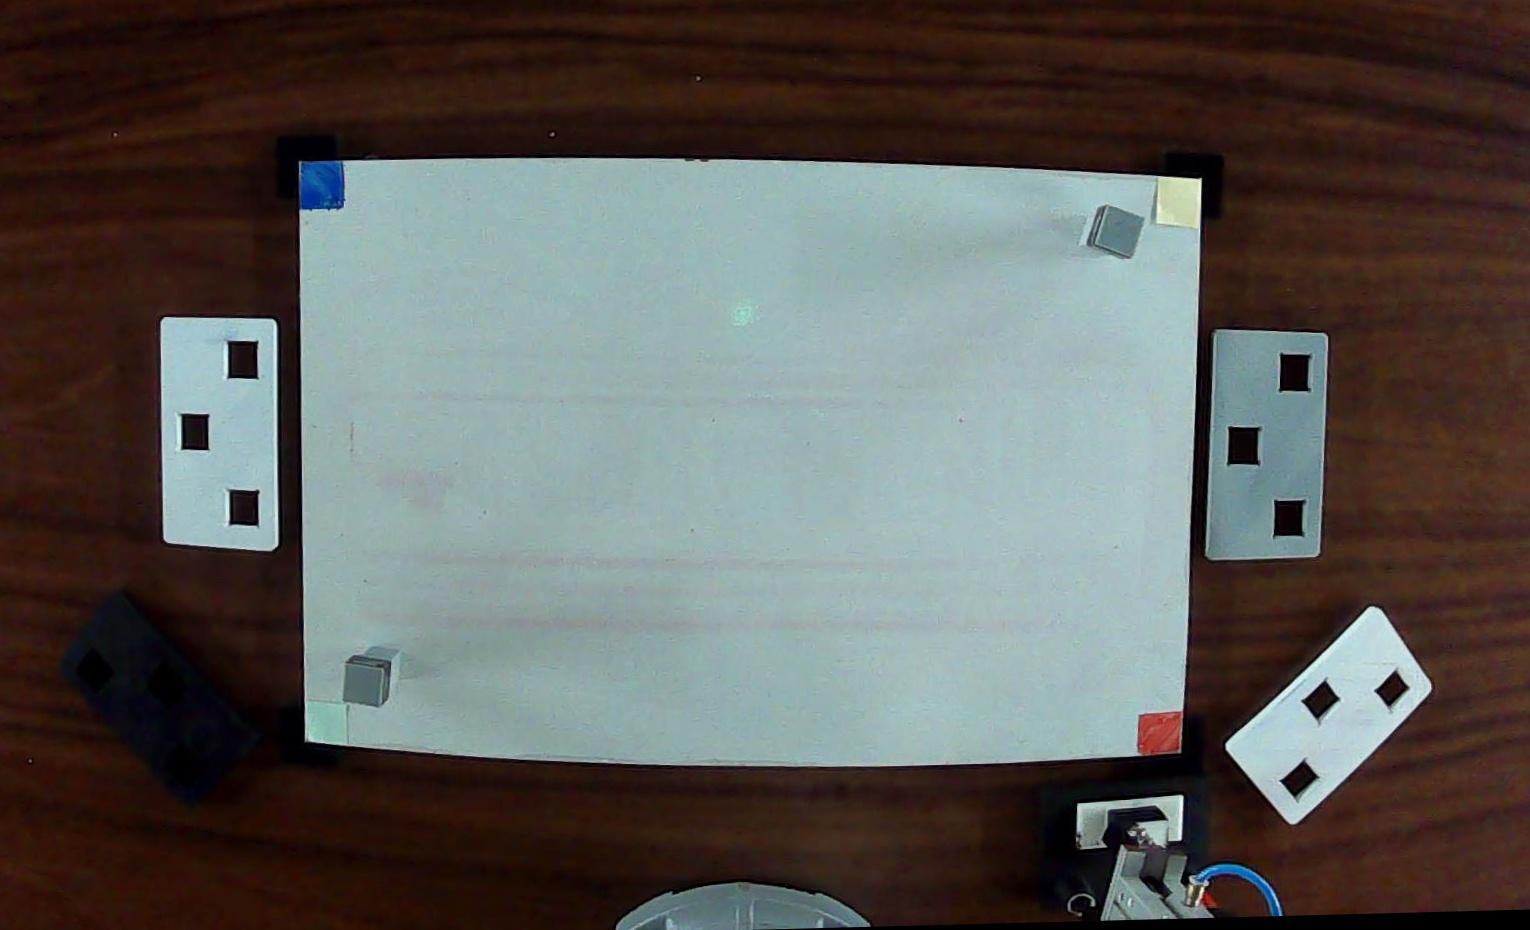pecaCinza: (1084, 202, 1145, 259), (341, 654, 397, 711)
